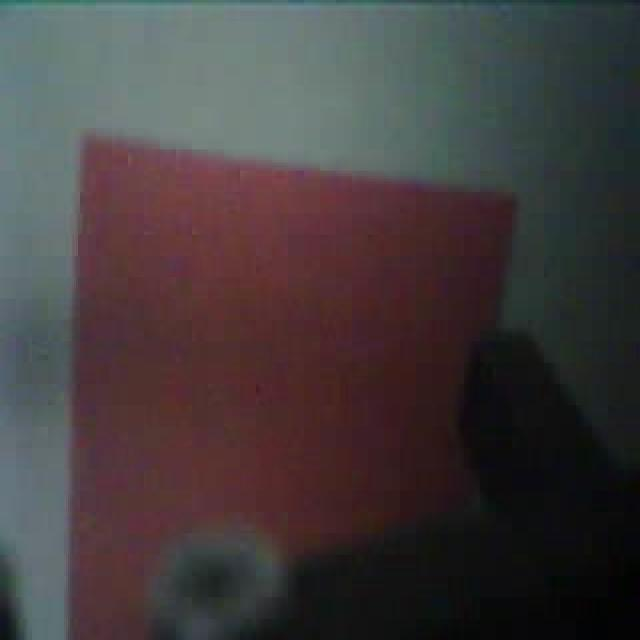red_box: (64, 125, 520, 638)
